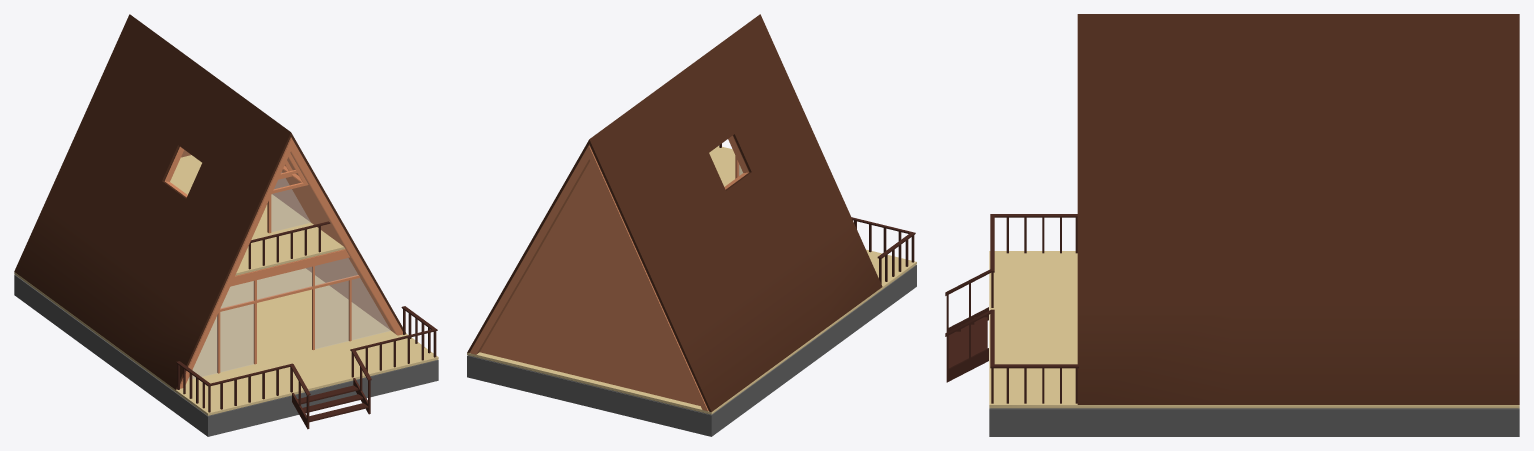
Rendered from house.glb.
The picture shows the model from 3 angles, left to right: view 1: azimuth 30°, elevation 25°; view 2: azimuth 150°, elevation 25°; view 3: azimuth 270°, elevation 25°; orthographic projection. The views are drawn at different scales.
Parts seen in each view (by area): view 1: woodencabin; view 2: woodencabin; view 3: woodencabin.
Boxes of the visible parts, <box> form: woodencabin: <box>14,14,438,436</box>; woodencabin: <box>467,14,916,436</box>; woodencabin: <box>945,14,1519,436</box>.
Bounding box in the file's own units: 8.25 × 8.69 × 12.99.
